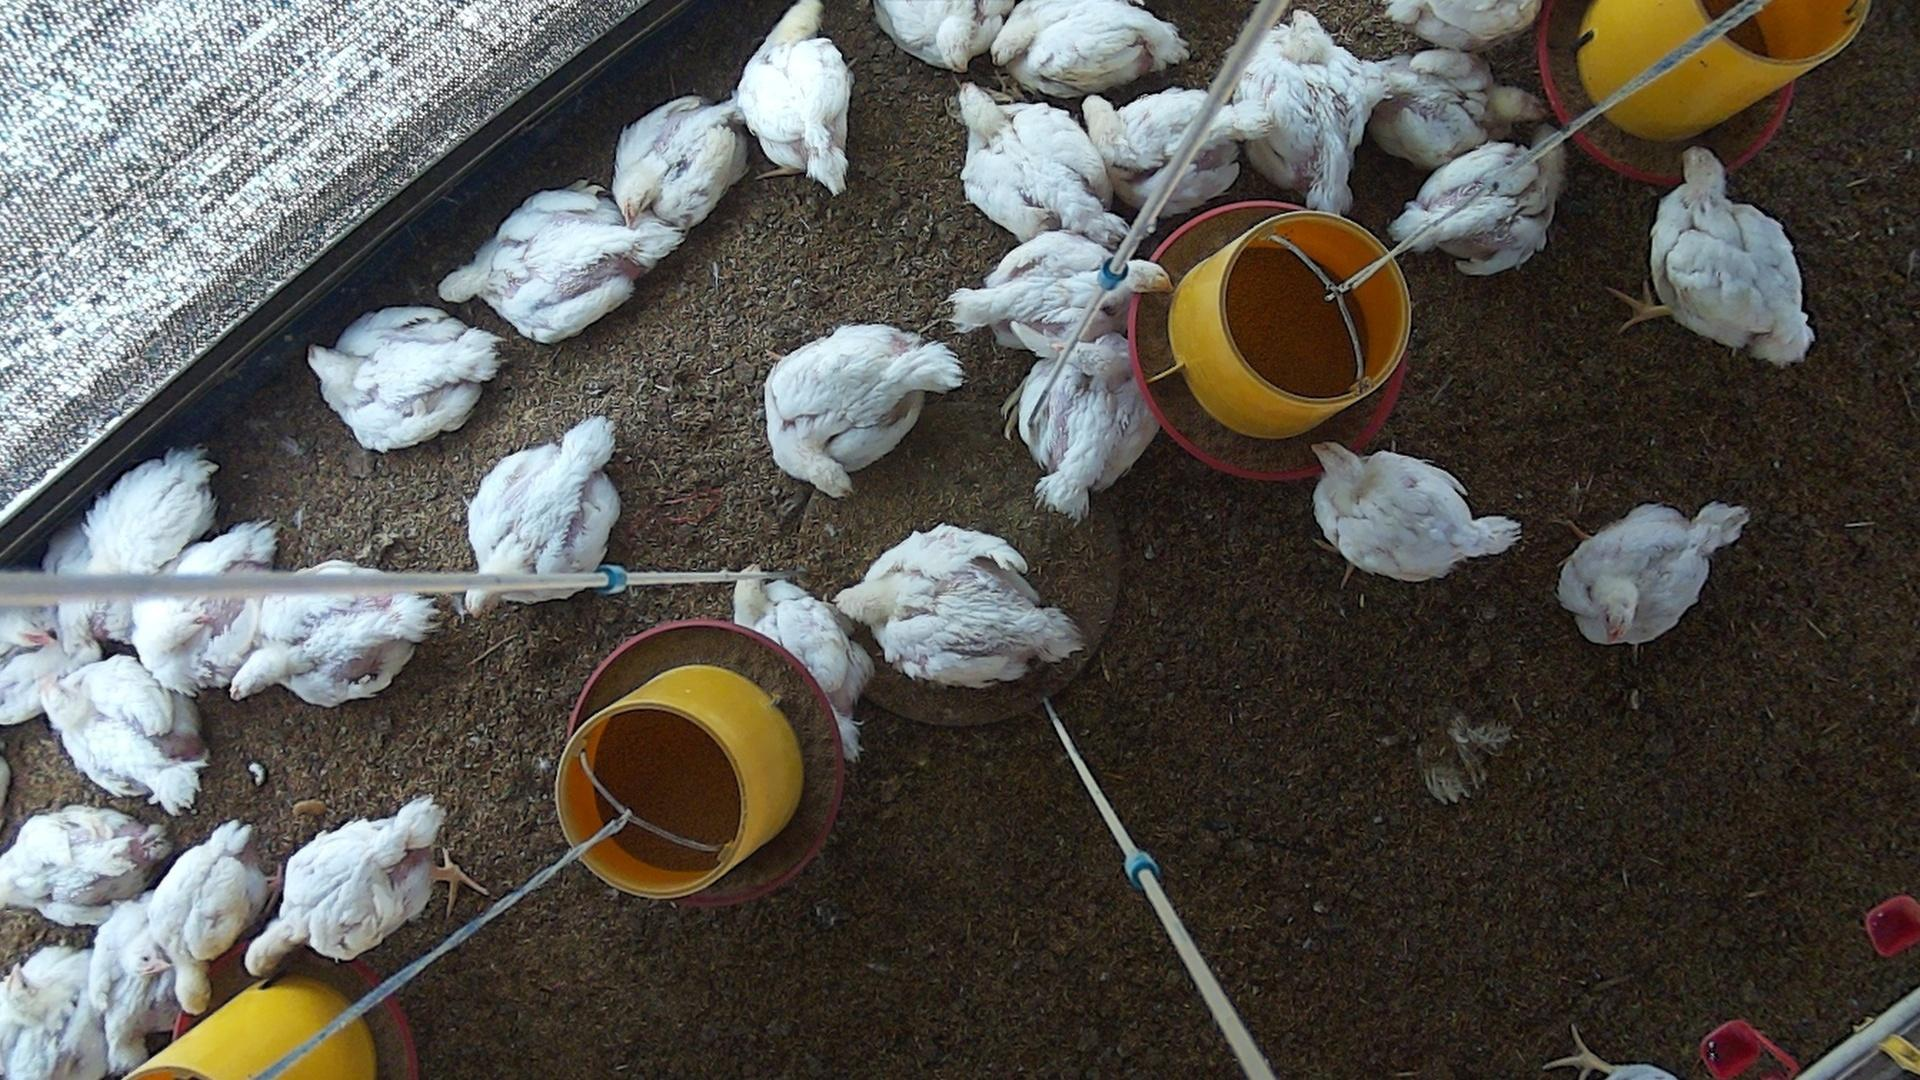ayam_broiler: (1609, 148, 1812, 364), (244, 798, 489, 972), (443, 186, 686, 342), (852, 524, 1080, 687), (764, 322, 964, 495), (1224, 5, 1373, 215), (227, 560, 436, 708), (467, 418, 620, 608), (307, 306, 500, 451), (1312, 446, 1519, 580), (1557, 502, 1747, 646), (951, 232, 1166, 357), (733, 570, 873, 760), (1017, 331, 1158, 518), (148, 819, 278, 1018), (1391, 133, 1572, 274), (42, 653, 203, 811), (957, 83, 1117, 240), (132, 525, 278, 695), (1081, 91, 1269, 220), (735, 0, 852, 193), (44, 451, 219, 576), (82, 894, 193, 1075), (1366, 49, 1536, 166), (0, 806, 167, 924), (993, 0, 1187, 95), (613, 96, 746, 227), (0, 947, 102, 1080), (874, 0, 997, 71)
